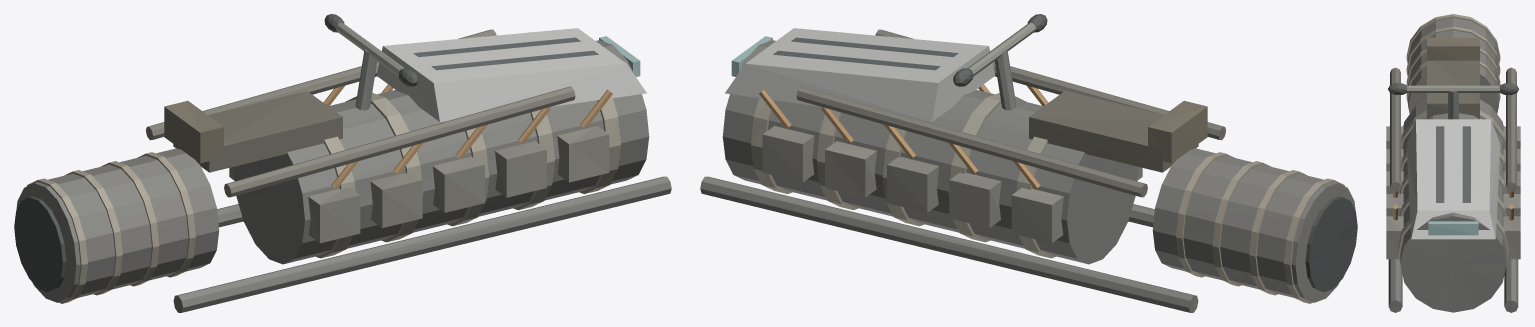
Rendered from airbike_white_off.glb.
3 renders of one model, left to right at view 1: azimuth 30°, elevation 25°; view 2: azimuth 150°, elevation 25°; view 3: azimuth 270°, elevation 25°, orthographic. The views are drawn at different scales.
Parts seen in each view (by area): view 1: main_engine, rear_turbine, yellow_front_cover, lower_frame_-0.37, seat, upper_frame_-0.37, exhaust_dark, rear_seat_riser, engine_block_-0.37_4, engine_block_-0.37_0, engine_block_-0.37_1, engine_block_-0.37_2 (+16 smaller); view 2: main_engine, rear_turbine, yellow_front_cover, lower_frame_0.37, seat, upper_frame_0.37, exhaust_dark, rear_seat_riser, engine_block_0.37_4, engine_block_0.37_0, engine_block_0.37_1, engine_block_0.37_2 (+16 smaller); view 3: main_engine, yellow_front_cover, rear_turbine, seat, rear_seat_riser, upper_frame_-0.37, upper_frame_0.37, front_light, lower_frame_-0.37, lower_frame_0.37, handlebar, racing_stripe_0 (+23 smaller).
Boxes of the visible parts, box(x1,y1,x2,y2) form: main_engine: box(233, 40, 649, 264); rear_turbine: box(16, 148, 219, 302); yellow_front_cover: box(376, 28, 646, 121); lower_frame_-0.37: box(173, 176, 671, 312); seat: box(173, 91, 342, 172); upper_frame_-0.37: box(224, 86, 575, 197); exhaust_dark: box(14, 196, 66, 292); rear_seat_riser: box(164, 100, 223, 163); engine_block_-0.37_4: box(557, 126, 609, 182); engine_block_-0.37_0: box(308, 188, 360, 243); engine_block_-0.37_1: box(370, 172, 422, 227); engine_block_-0.37_2: box(432, 156, 484, 212); main_engine: box(722, 40, 1138, 264); rear_turbine: box(1152, 148, 1355, 302); yellow_front_cover: box(725, 28, 995, 121); lower_frame_0.37: box(700, 176, 1198, 312); seat: box(1029, 91, 1198, 172); upper_frame_0.37: box(796, 86, 1147, 197); exhaust_dark: box(1305, 196, 1357, 292); rear_seat_riser: box(1148, 100, 1207, 163); engine_block_0.37_4: box(762, 126, 814, 182); engine_block_0.37_0: box(1011, 188, 1063, 243); engine_block_0.37_1: box(949, 172, 1001, 227); engine_block_0.37_2: box(887, 156, 939, 212); main_engine: box(1400, 99, 1506, 312); yellow_front_cover: box(1406, 119, 1500, 239); rear_turbine: box(1408, 16, 1498, 113); seat: box(1427, 60, 1479, 118); rear_seat_riser: box(1427, 37, 1479, 60); upper_frame_-0.37: box(1390, 67, 1400, 191); upper_frame_0.37: box(1506, 67, 1516, 191); front_light: box(1428, 221, 1478, 235); lower_frame_-0.37: box(1388, 259, 1402, 312); lower_frame_0.37: box(1504, 259, 1518, 312); handlebar: box(1406, 85, 1500, 92); racing_stripe_0: box(1436, 126, 1444, 202).
Size of the model in its own units: 3.22 by 1.01 by 0.86.
